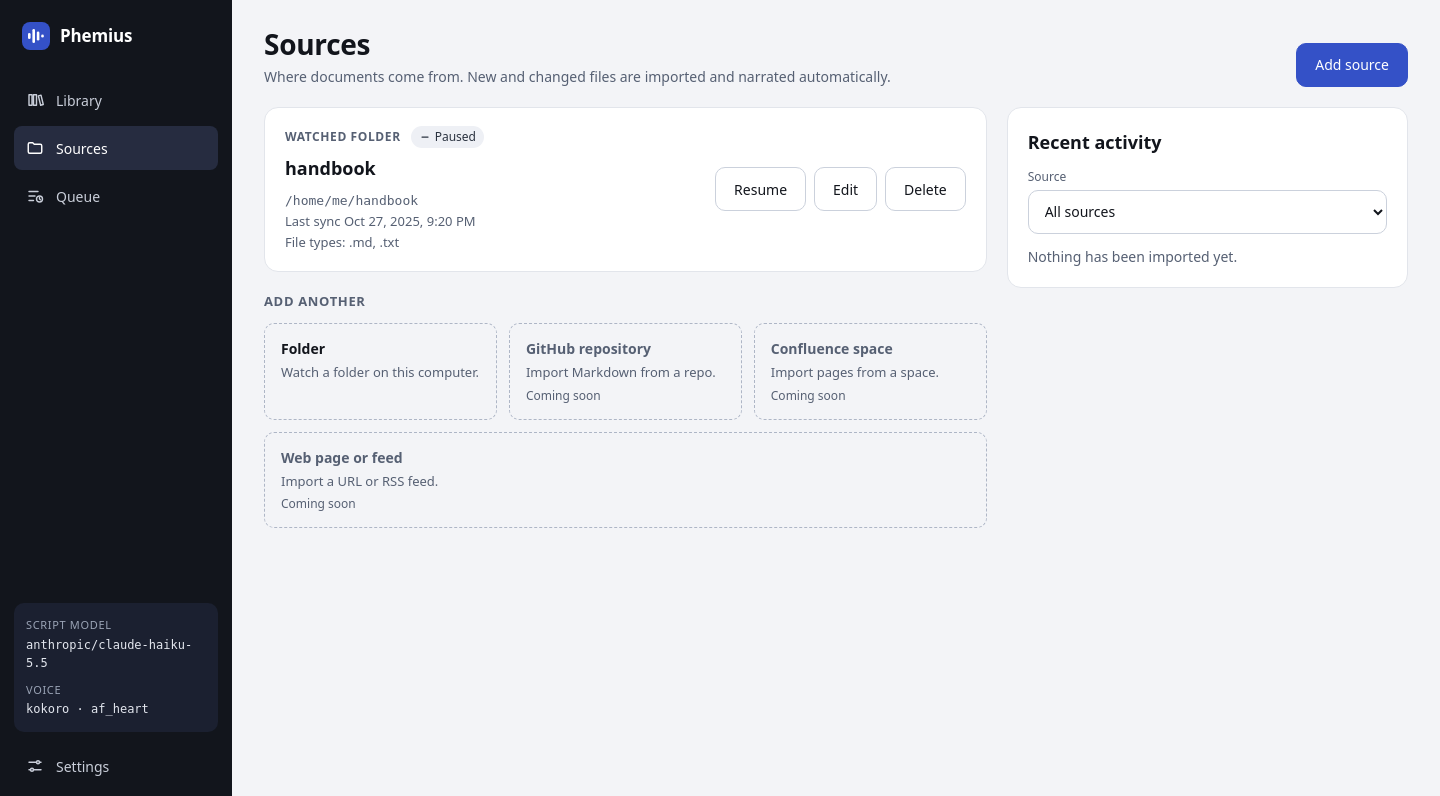
Test case: a source's excluded files › re-imports a file and removes it from Excluded files
Click the button "Edit": (846, 189) 814,167 -> 877,211
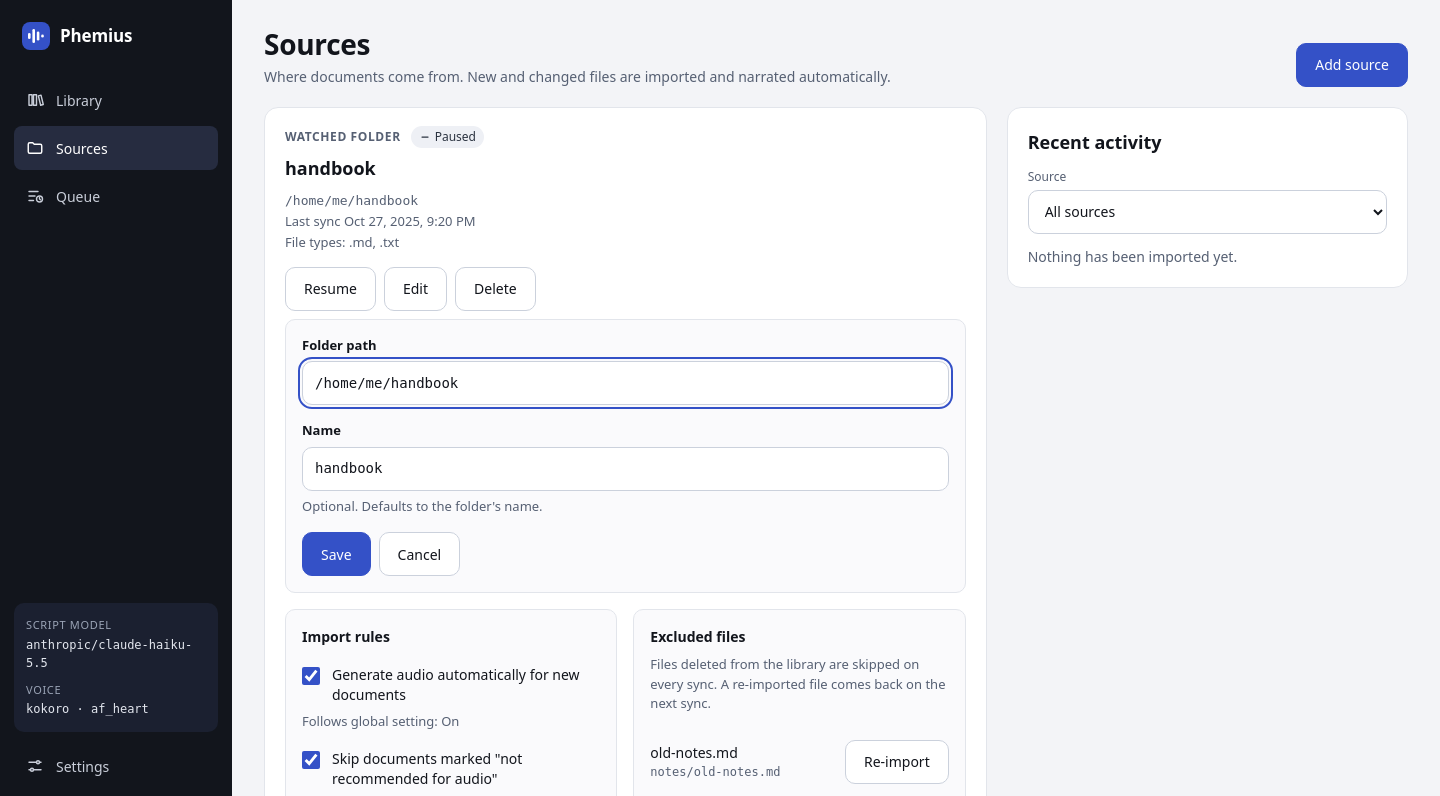
Click the button named "Re-import old-notes.md": (897, 762) 845,740 -> 949,784
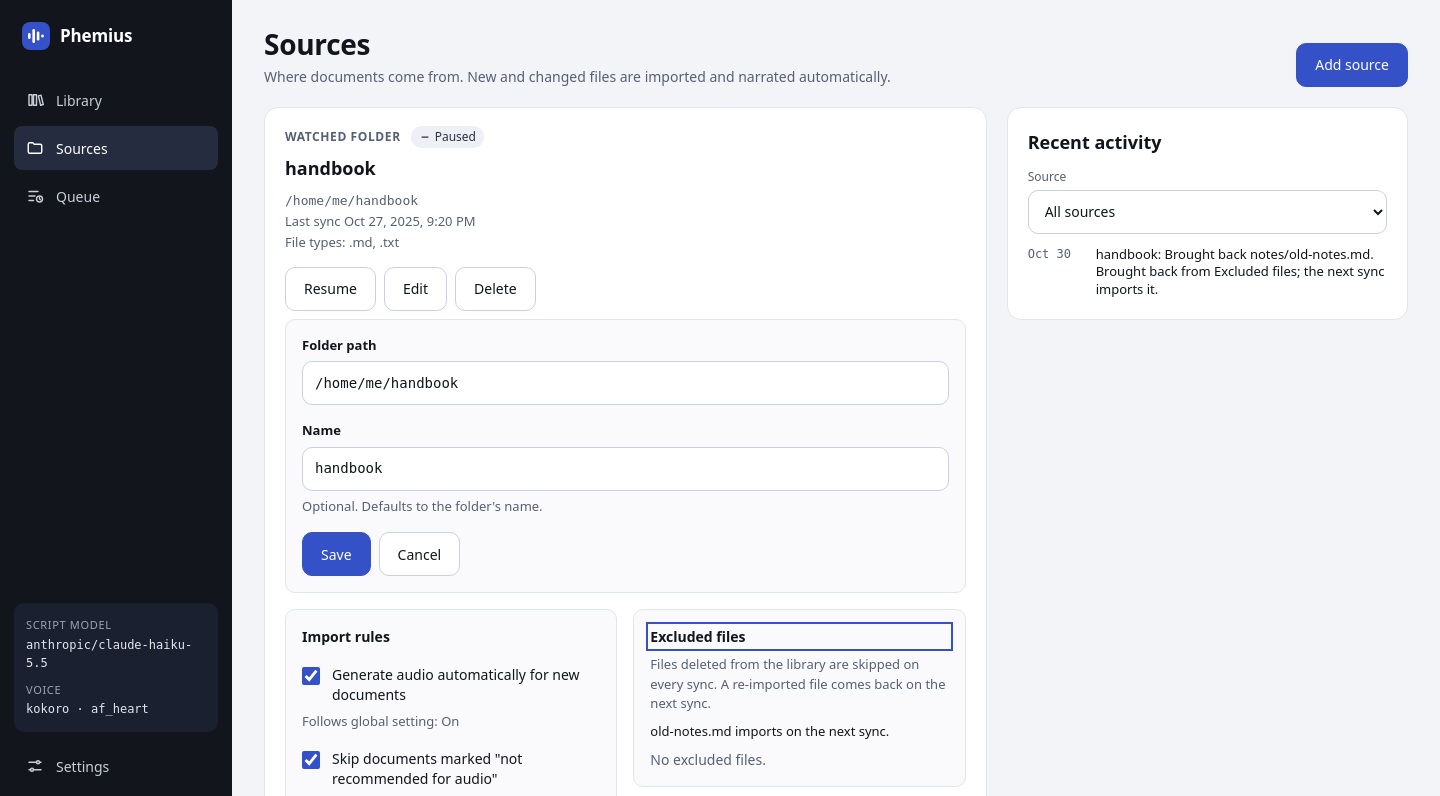
Now the text "No excluded files." is shown, box 650,750 -> 766,770
Now the message reads "old-notes.md imports on the next sync.", box 650,722 -> 889,740
